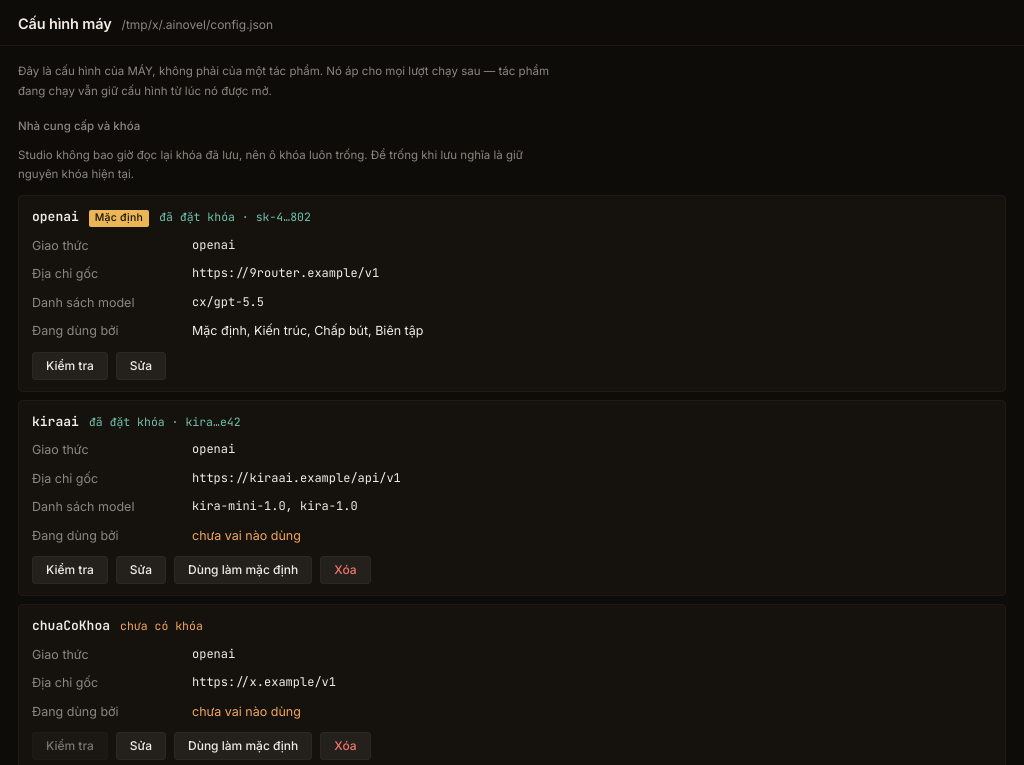
Test: kiểm xong thì nói số model, và chỉ tên KHAI mà nhà cung cấp không có mới bị nêu
Expected: the list item with class "nccMuc" that starts with "kiraai" is shown, top-left (18, 400), bottom-right (1006, 596)
Click the button "Kiểm tra" below "đã đặt khóa · kira…e42" at (70, 570), box top-left (32, 556), bottom-right (108, 584)
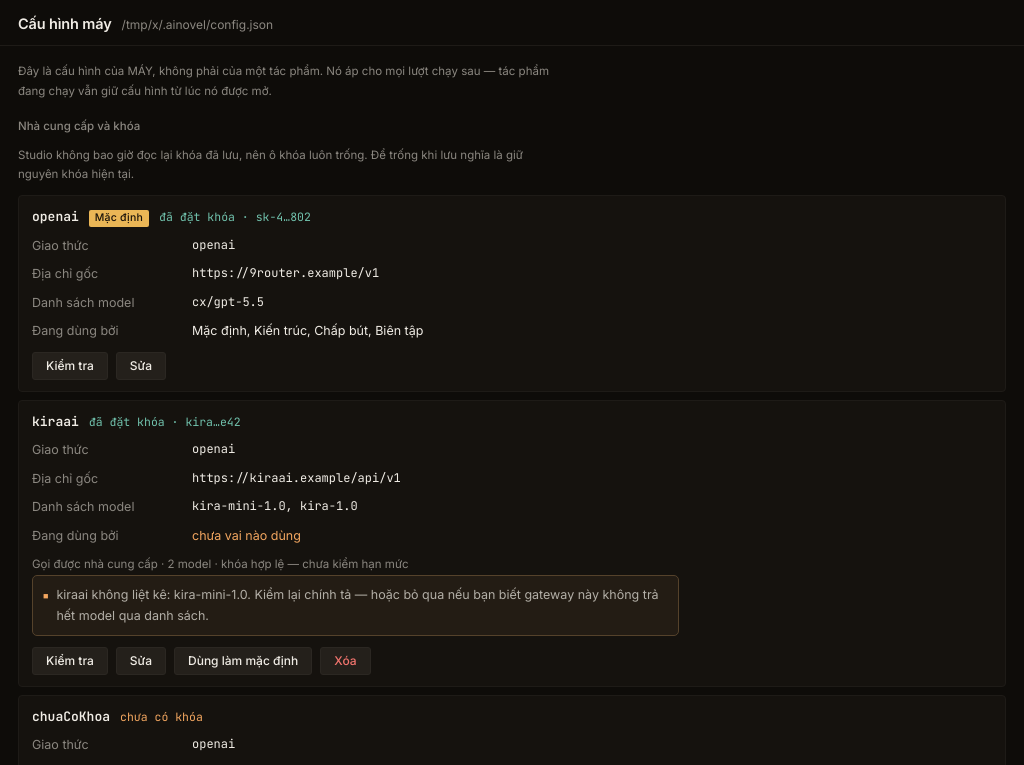
Expected: the list item with class "nccMuc" shows "2 model", top-left (32, 557), bottom-right (409, 571)
Expected: the list item with class "nccMuc" shows "chưa kiểm hạn mức", top-left (32, 557), bottom-right (409, 571)
Expected: the text "kira-mini-1.0" is shown, top-left (56, 587), bottom-right (659, 623)
